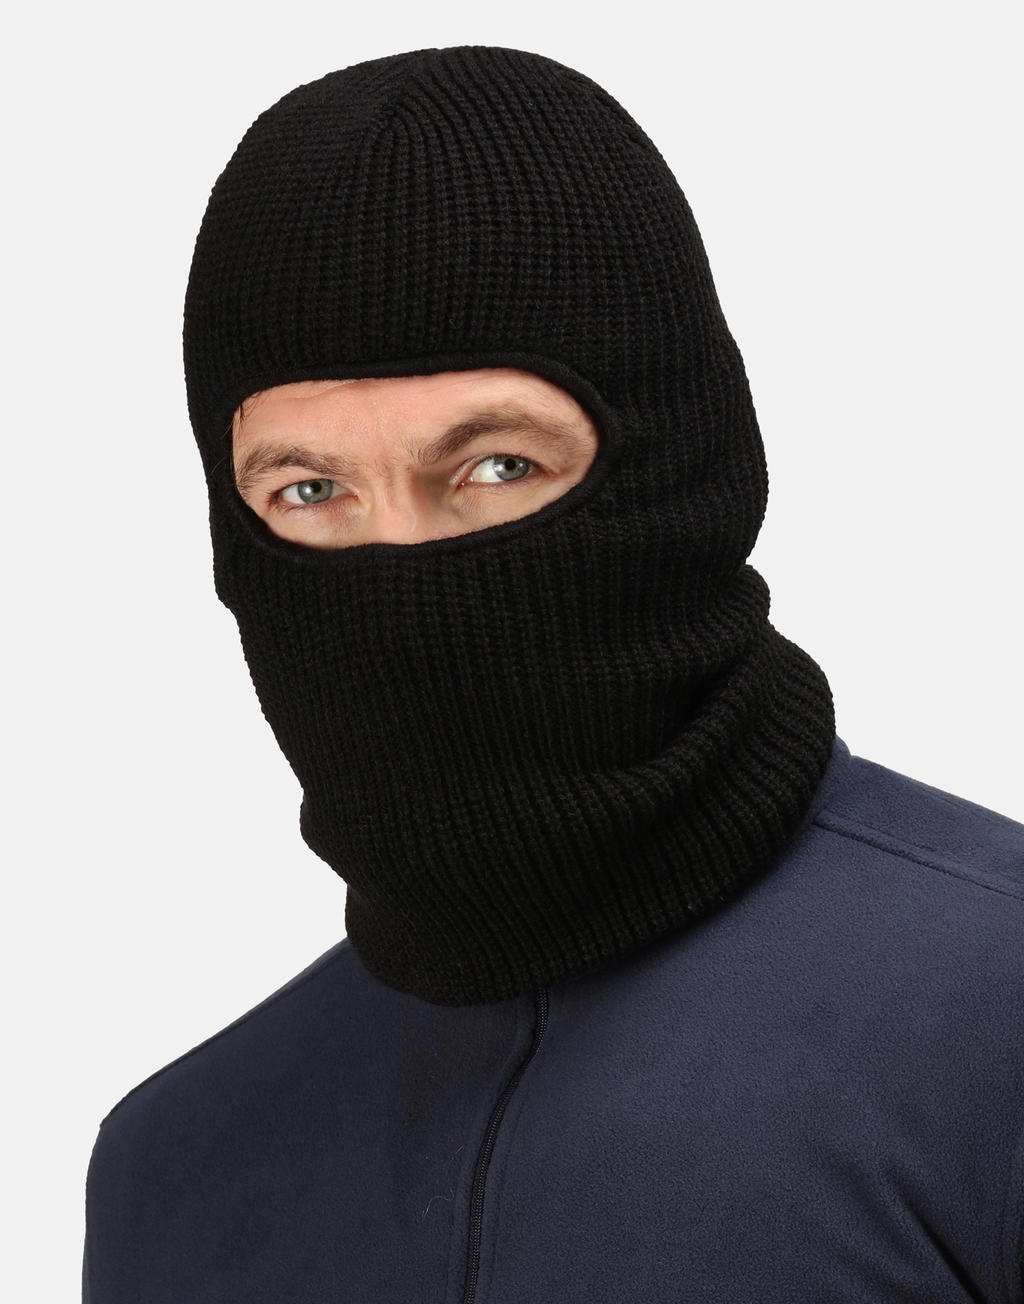mask: (178, 27, 806, 948)
person: (75, 23, 1024, 1304)
